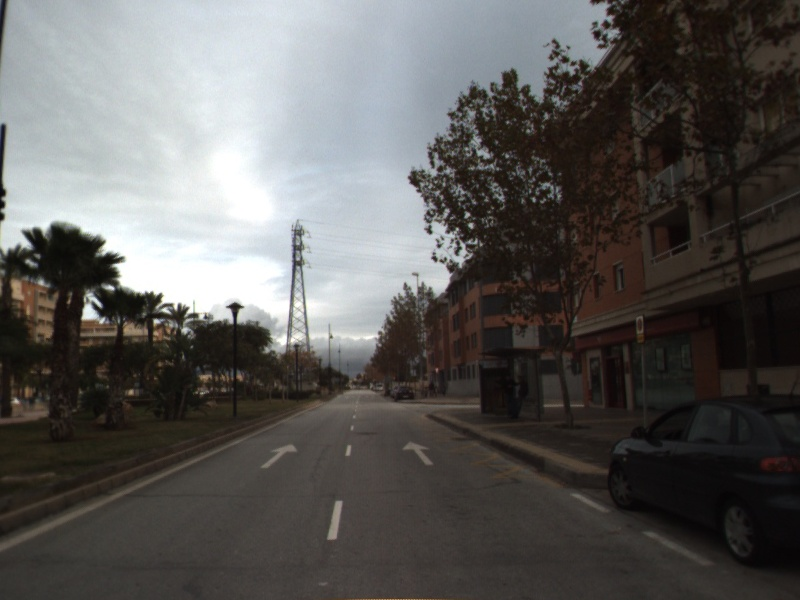STRAIGHT: (258, 442, 300, 470), (400, 439, 436, 467)
